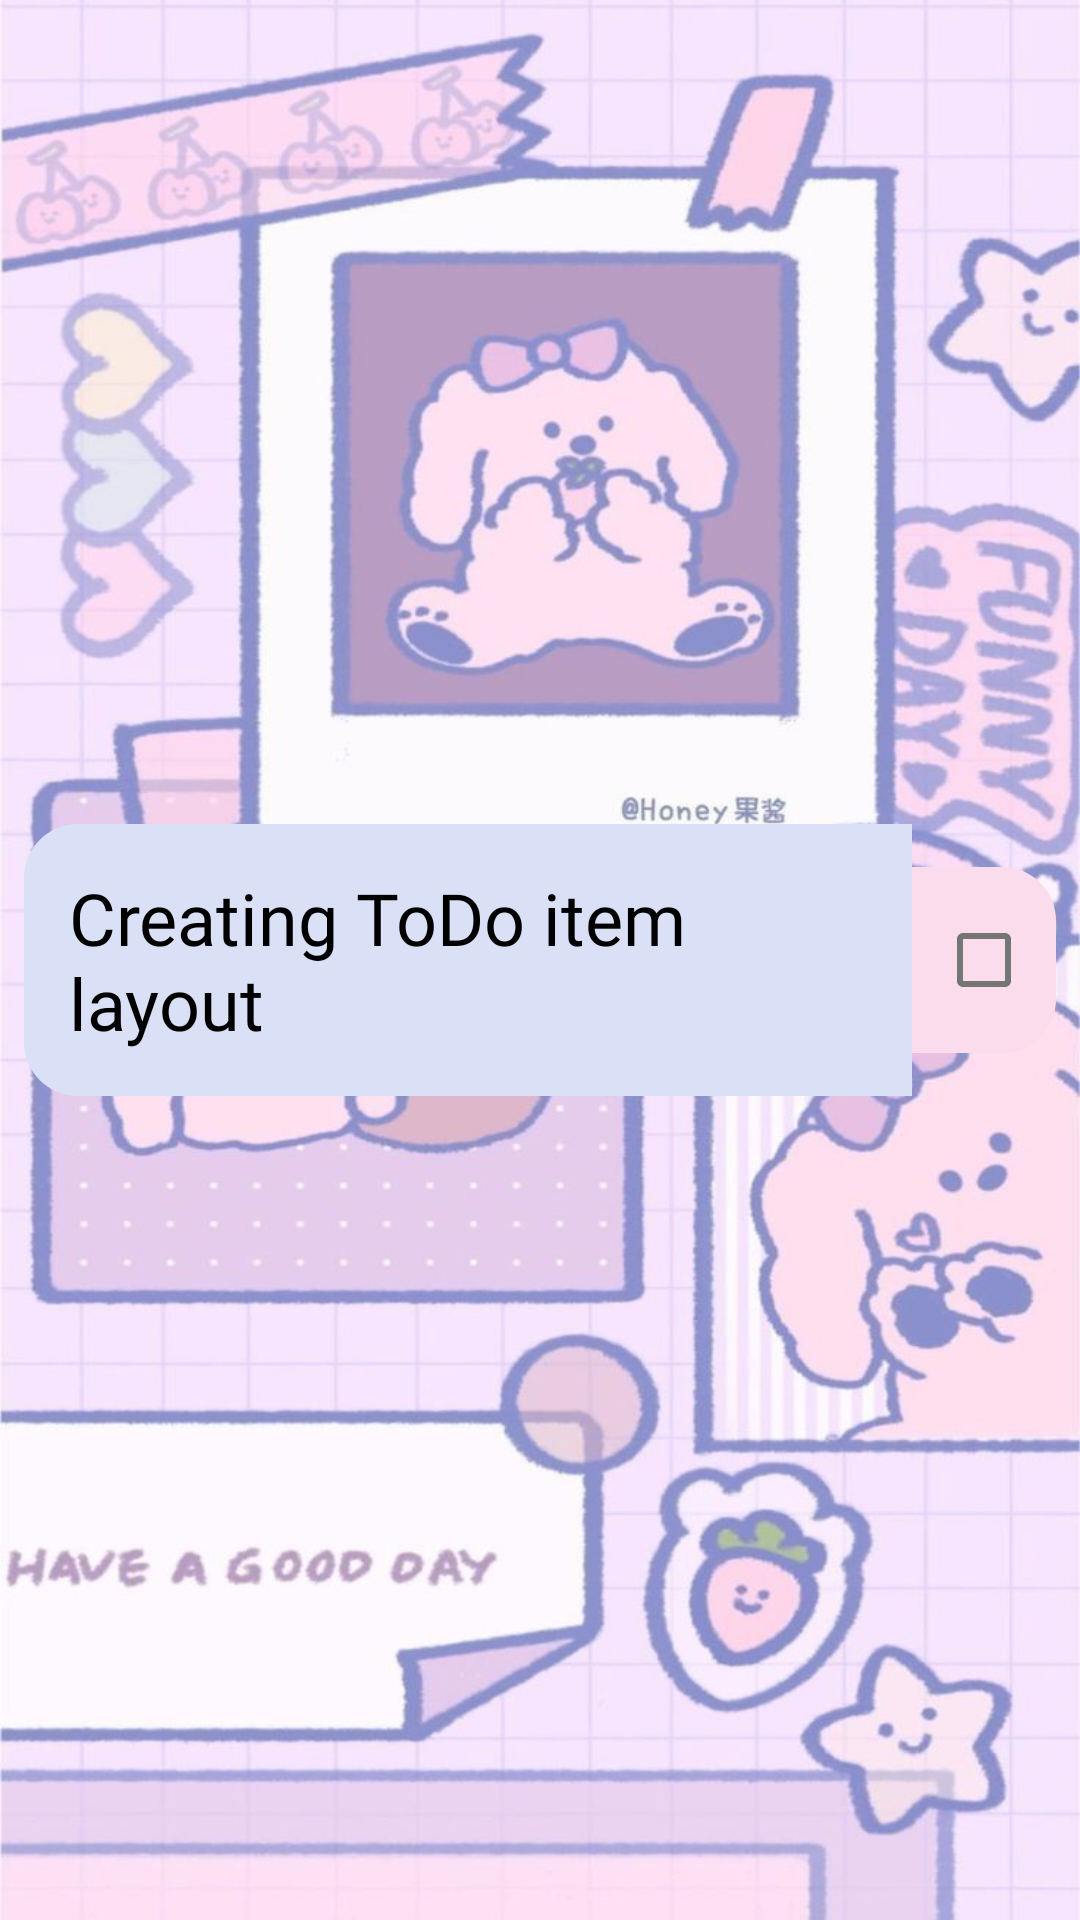

Icon click points for this 1080w x 1920h phone screenshot, format (x=x, y=y):
chk block: (x=984, y=960)
